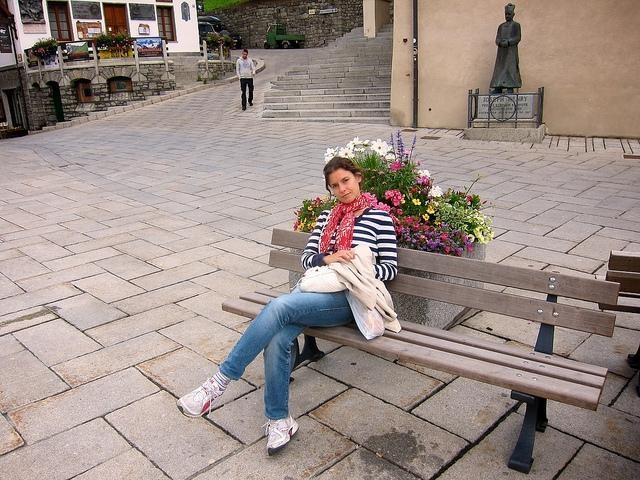car: (198, 22, 242, 50)
